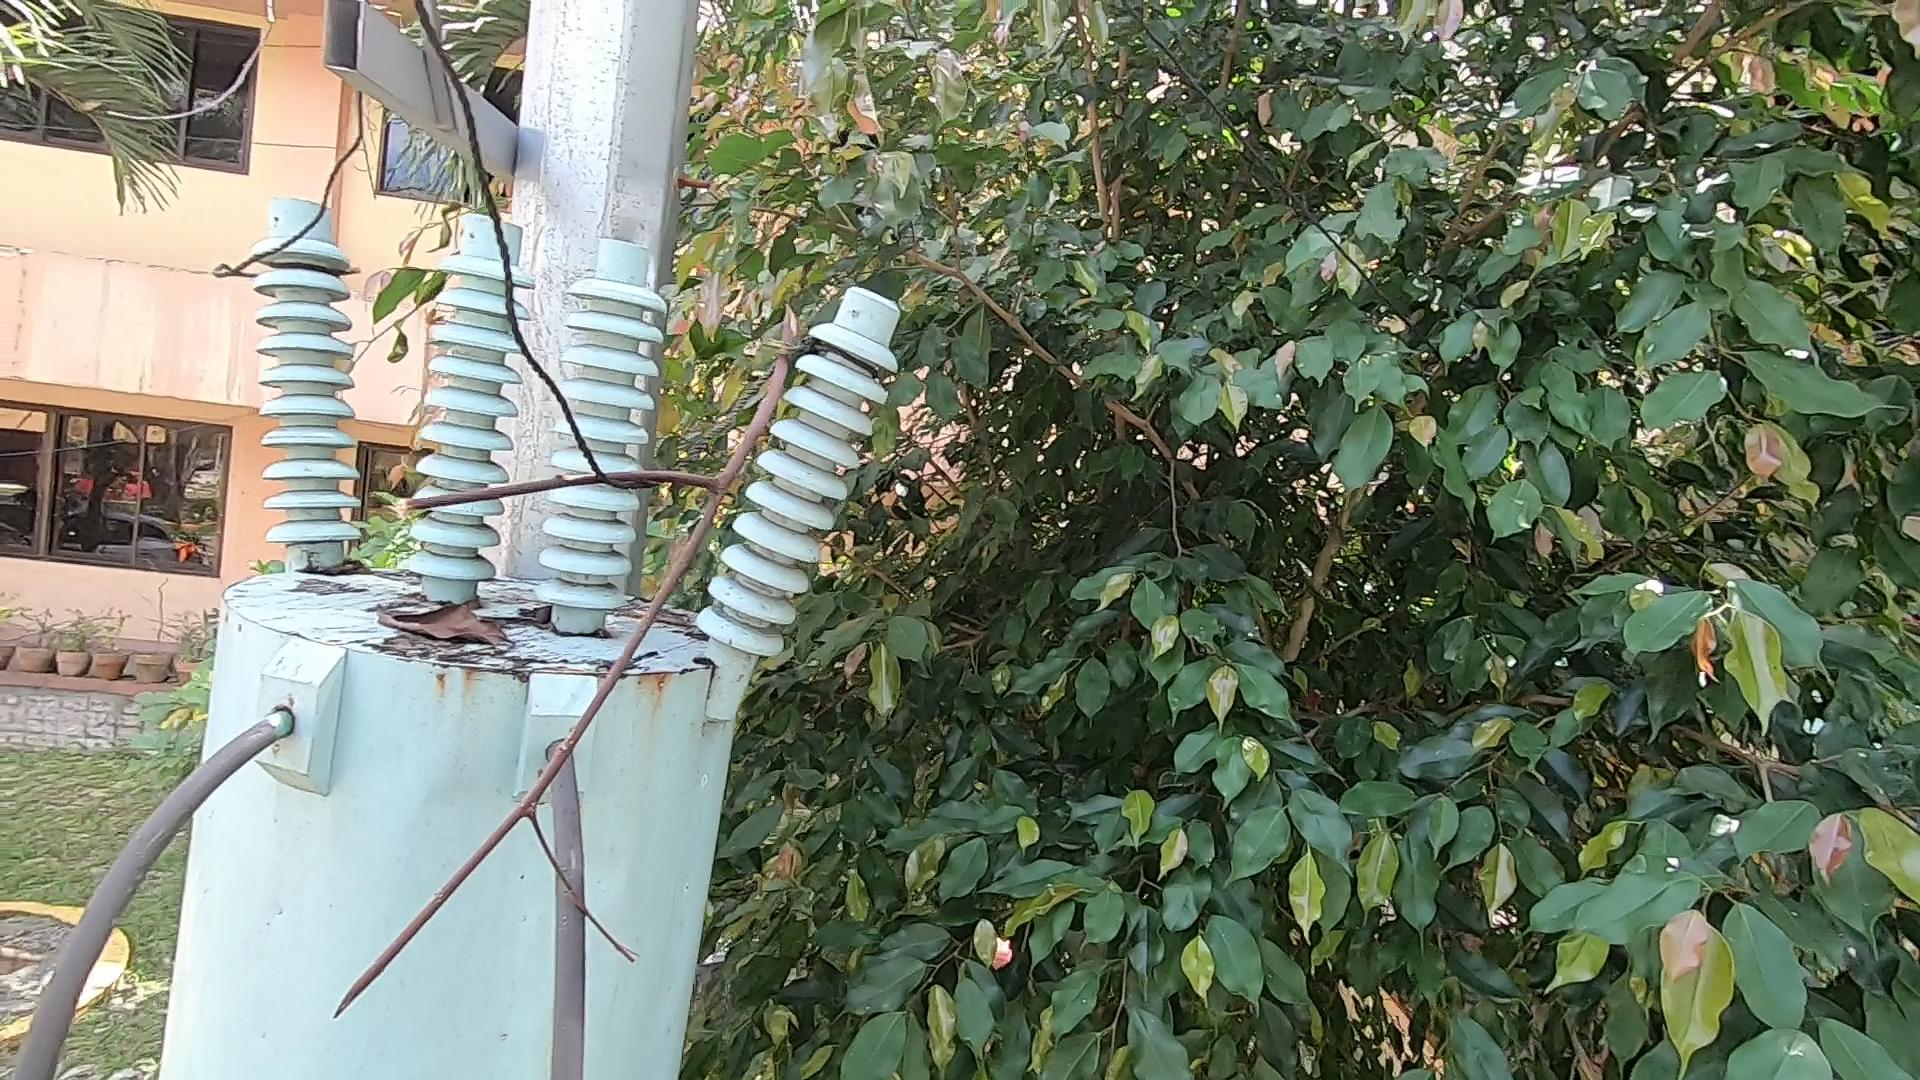leaf: (365, 593, 517, 665)
tree branch: (313, 328, 865, 1029)
